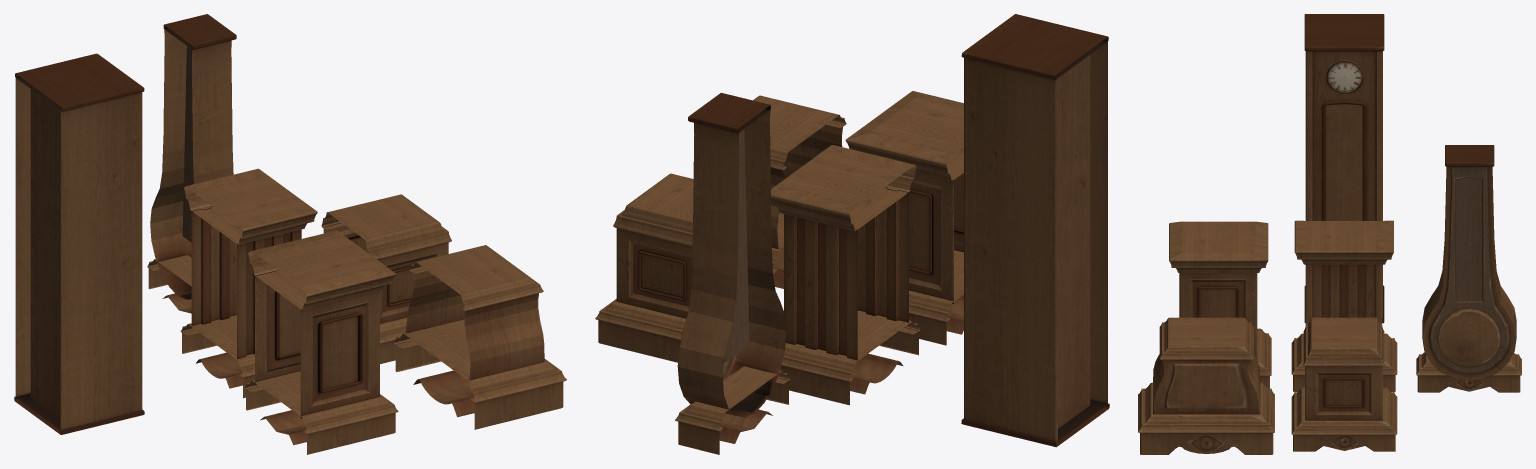
3 views of the same model, side by side, from view 1: azimuth 30°, elevation 25°; view 2: azimuth 150°, elevation 25°; view 3: azimuth 270°, elevation 25° (orthographic). The views are drawn at different scales.
Parts seen in each view (by area): view 1: 5r_SM_Clocks_Kit_Base02_mo, 5r_SM_Clocks_Kit_Base06_mo, 5r_SM_Clocks_Kit_Base05_mo, 5r_SM_Clocks_Kit_Base04_mo, 5r_SM_Clocks_Kit_Base08_mo, 5r_SM_Clocks_Kit_Base07_mo; view 2: 5r_SM_Clocks_Kit_Base02_mo, 5r_SM_Clocks_Kit_Base08_mo, 5r_SM_Clocks_Kit_Base04_mo, 5r_SM_Clocks_Kit_Base06_mo, 5r_SM_Clocks_Kit_Base07_mo, 5r_SM_Clocks_Kit_Base05_mo; view 3: 5r_SM_Clocks_Kit_Base08_mo, 5r_SM_Clocks_Kit_Base02_mo, 5r_SM_Clocks_Kit_Base05_mo, 5r_SM_Clocks_Kit_Base07_mo, 5r_SM_Clocks_Kit_Base04_mo, 5r_SM_Clocks_Kit_Base06_mo.
Boxes of the visible parts, x1=… form: 5r_SM_Clocks_Kit_Base02_mo: x1=14, y1=53, x2=144, y2=434; 5r_SM_Clocks_Kit_Base06_mo: x1=245, y1=230, x2=398, y2=454; 5r_SM_Clocks_Kit_Base05_mo: x1=394, y1=245, x2=566, y2=429; 5r_SM_Clocks_Kit_Base04_mo: x1=180, y1=168, x2=317, y2=398; 5r_SM_Clocks_Kit_Base08_mo: x1=147, y1=14, x2=236, y2=313; 5r_SM_Clocks_Kit_Base07_mo: x1=321, y1=194, x2=451, y2=363; 5r_SM_Clocks_Kit_Base02_mo: x1=961, y1=14, x2=1109, y2=447; 5r_SM_Clocks_Kit_Base08_mo: x1=675, y1=92, x2=790, y2=454; 5r_SM_Clocks_Kit_Base04_mo: x1=771, y1=145, x2=920, y2=405; 5r_SM_Clocks_Kit_Base06_mo: x1=845, y1=91, x2=963, y2=345; 5r_SM_Clocks_Kit_Base07_mo: x1=595, y1=173, x2=693, y2=362; 5r_SM_Clocks_Kit_Base05_mo: x1=753, y1=95, x2=846, y2=288; 5r_SM_Clocks_Kit_Base08_mo: x1=1416, y1=145, x2=1521, y2=392; 5r_SM_Clocks_Kit_Base02_mo: x1=1304, y1=14, x2=1384, y2=323; 5r_SM_Clocks_Kit_Base05_mo: x1=1138, y1=317, x2=1274, y2=454; 5r_SM_Clocks_Kit_Base07_mo: x1=1291, y1=317, x2=1397, y2=451; 5r_SM_Clocks_Kit_Base04_mo: x1=1291, y1=220, x2=1397, y2=391; 5r_SM_Clocks_Kit_Base06_mo: x1=1169, y1=221, x2=1271, y2=388.
Size of the model in its own units: 575 by 443 by 558.
